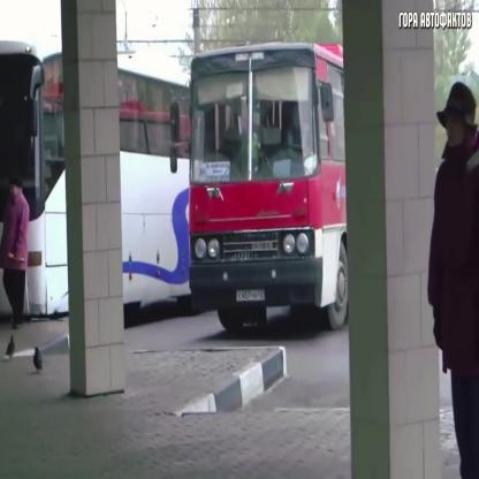bus: (1, 39, 219, 328), (187, 38, 354, 334)
